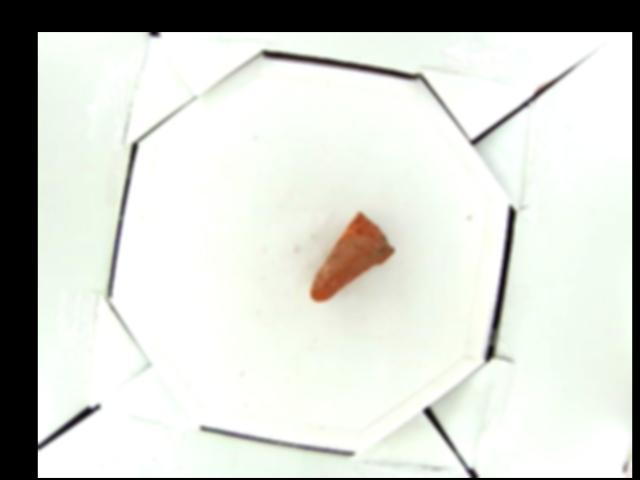Brisk: (309, 211, 395, 303)
